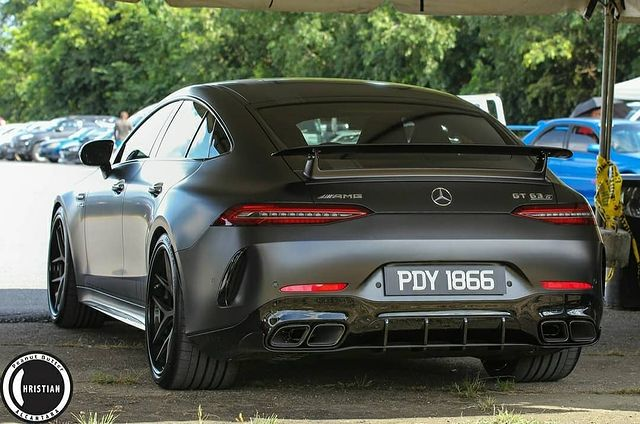License-Plate: (384, 267, 504, 295)
